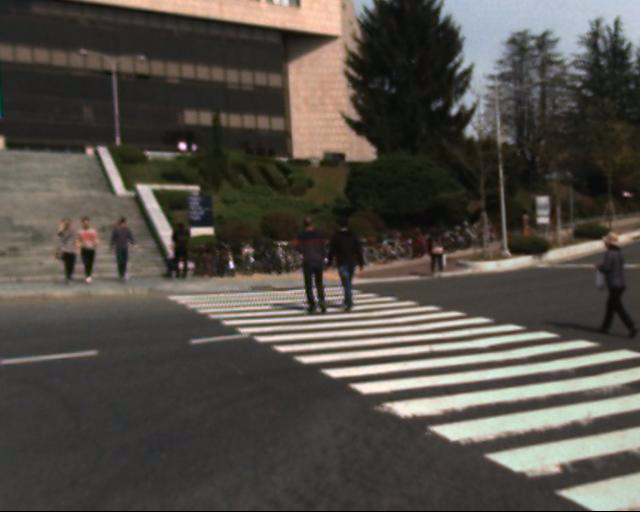person: (593, 220, 640, 352), (286, 208, 338, 319), (336, 212, 379, 315), (53, 209, 99, 291), (106, 211, 140, 288), (78, 214, 111, 289), (419, 226, 454, 290), (167, 214, 198, 286), (508, 203, 545, 260)
